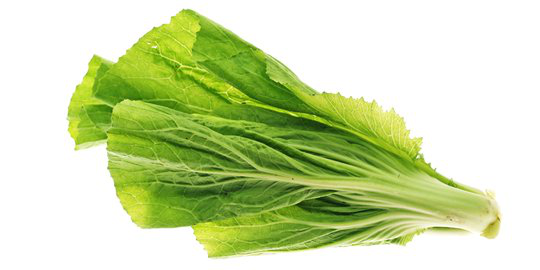Sawi: (41, 6, 530, 259)
